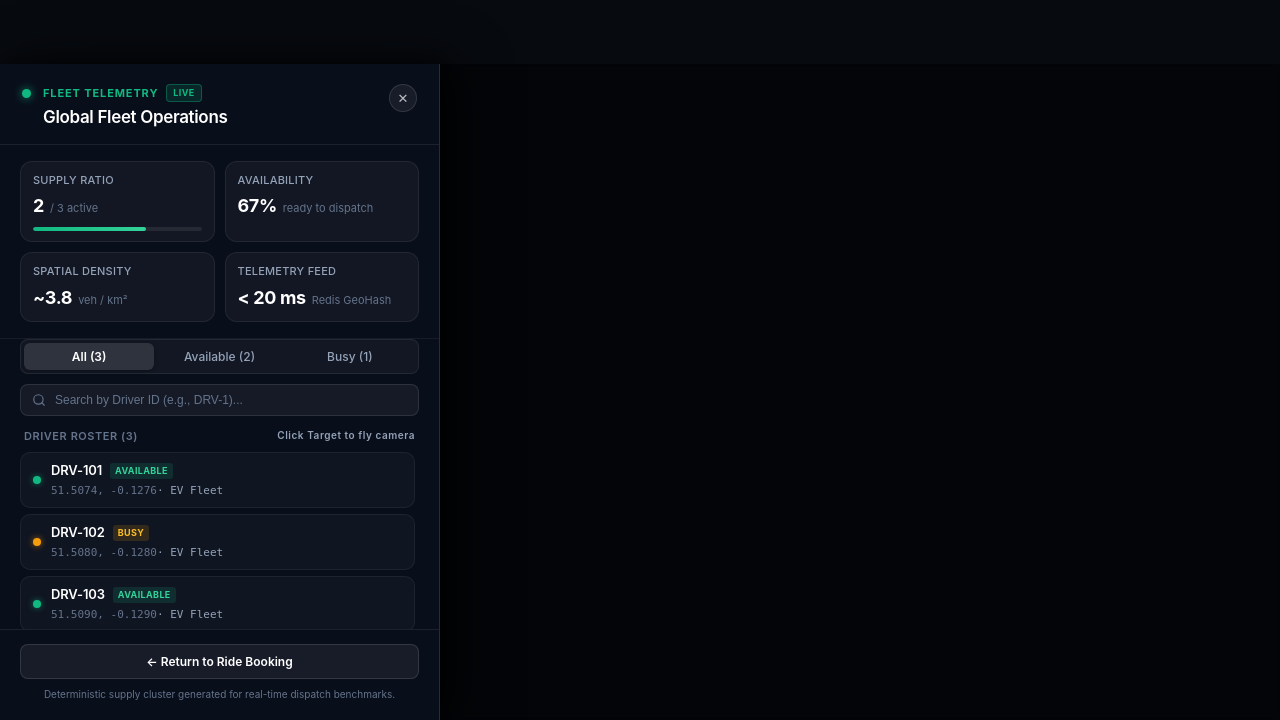
FleetTelemetryDrawer › filters drivers by status and search query
Note: Filter by busy
Click the tab "Busy (1)".
click(350, 356)  # box [285,343,415,370]
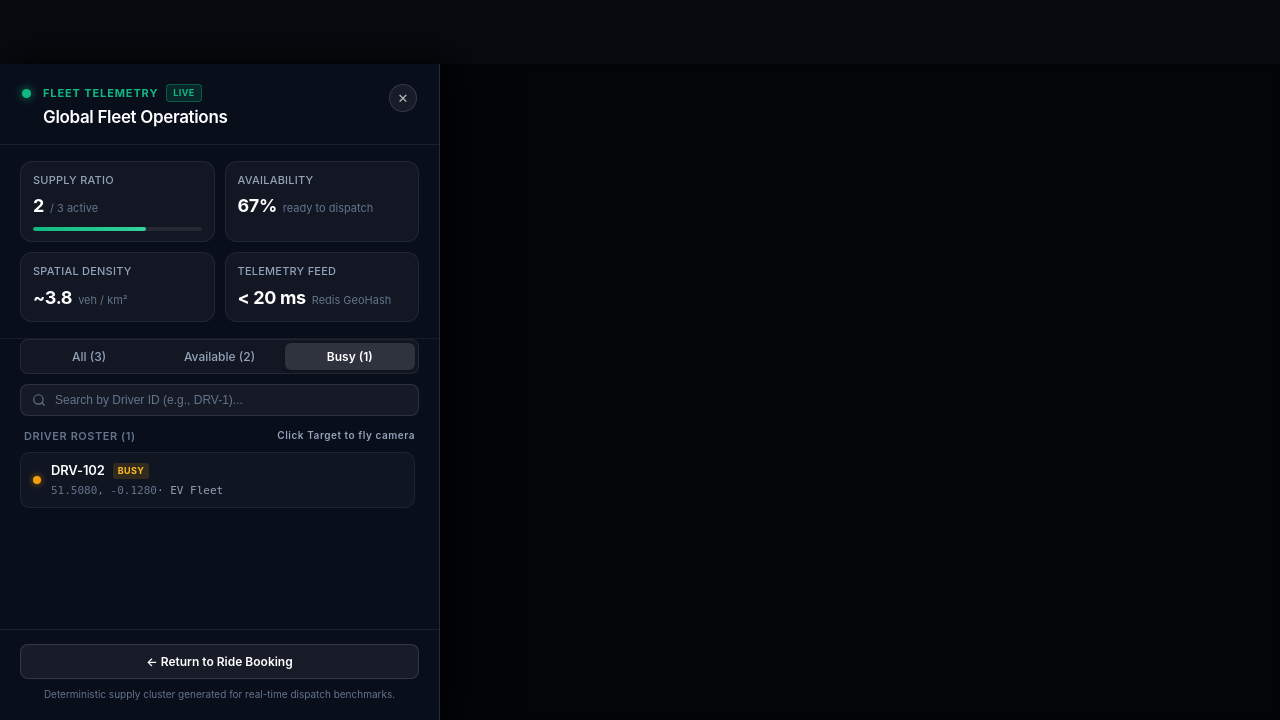
Check: the text "DRV-102" is shown, box [51,461,105,481]
Check: the text "DRV-101" is gone
Note: Filter by available
Click the tab "Available (2)".
click(219, 356)  # box [154,343,285,370]
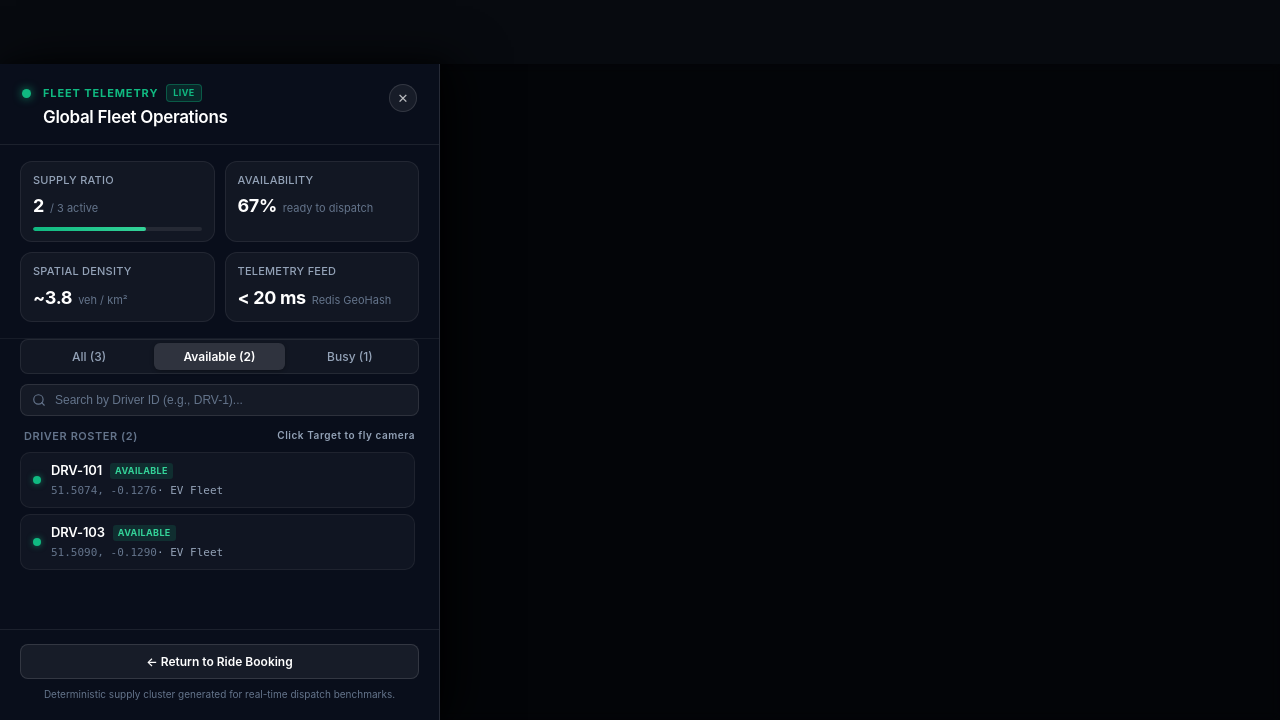
Check: the text "DRV-101" is shown, box [51,461,102,481]
Check: the text "DRV-102" is gone
Note: Search input
Type "103" into the search field with placeholder "Search by Driver ID (e.g., DRV-1)...".
click(220, 400); type("103")  # box [20,384,419,416]
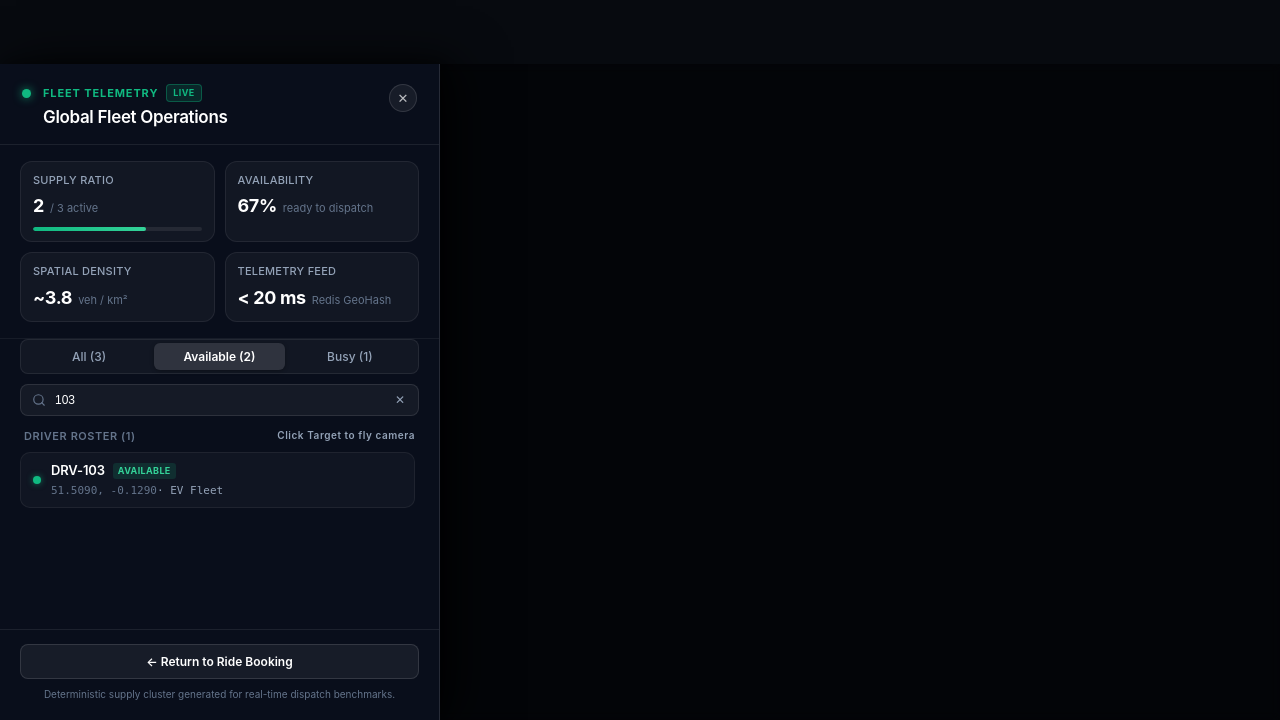
Check: the text "DRV-103" is shown, box [51,461,105,481]
Check: the text "DRV-101" is gone
